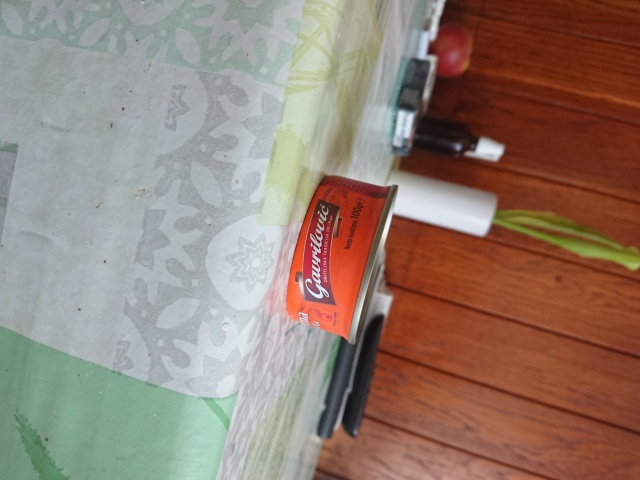Gavrilovic Pork Liver Pate 100g: (282, 171, 401, 347)
